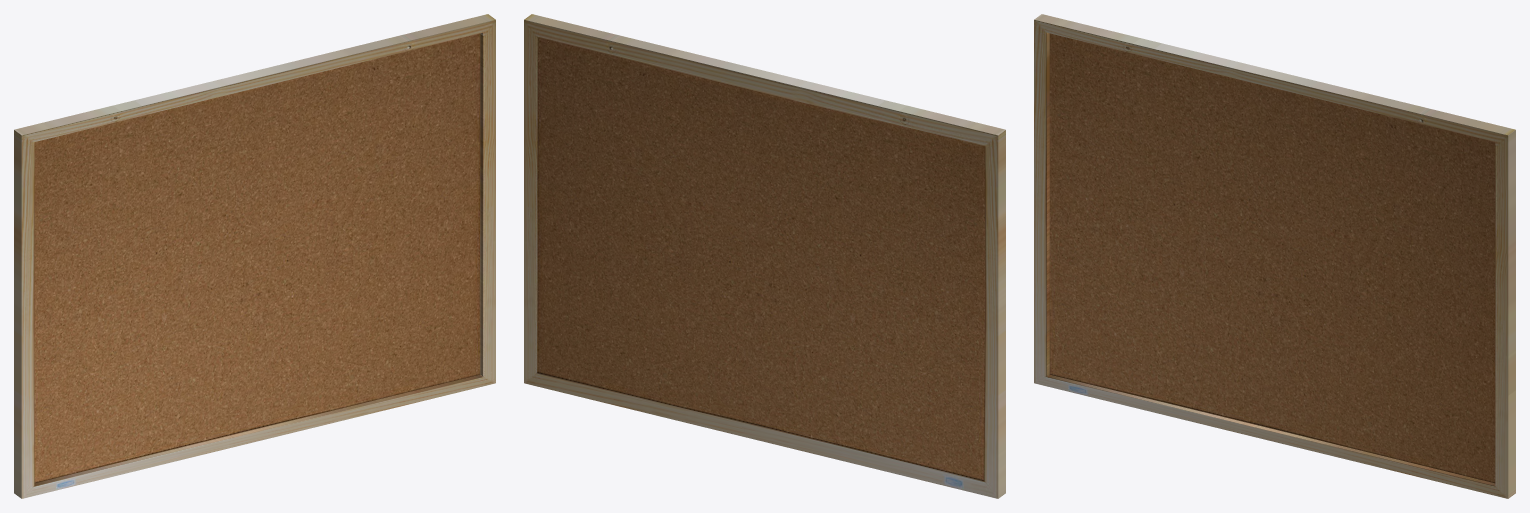
The model's file is QuadroDeAvisos.fbx.
3 views of the same model, side by side, from view 1: azimuth 30°, elevation 25°; view 2: azimuth 150°, elevation 25°; view 3: azimuth 330°, elevation 25° (orthographic).
Parts seen in each view (by area): view 1: Cube; view 2: Cube; view 3: Cube.
Part boxes in pixels (<box>): Cube: <box>14,14,495,498</box>; Cube: <box>524,14,1005,498</box>; Cube: <box>1034,14,1515,498</box>.
Size of the model in its own units: 444 by 325 by 12.64.
Materials: 1 (1 with a texture image).
